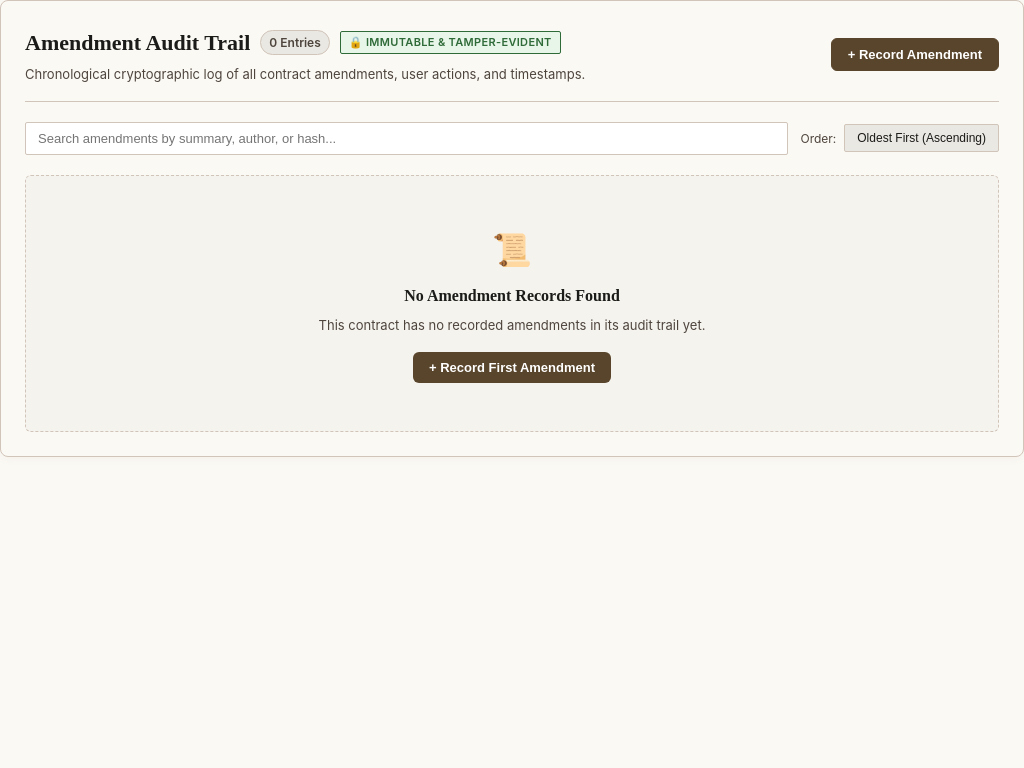
Test: AmendmentTimeline Component › renders empty state when no amendments are provided and allows opening amendment record form
Expected: the element with test id "amendment-empty-state" is shown, [25,175,999,432]
Expected: the heading "No Amendment Records Found" is shown, [404,287,620,304]
Click the button with test id "amendment-form-toggle" at (915,55), box [831,38,999,72]
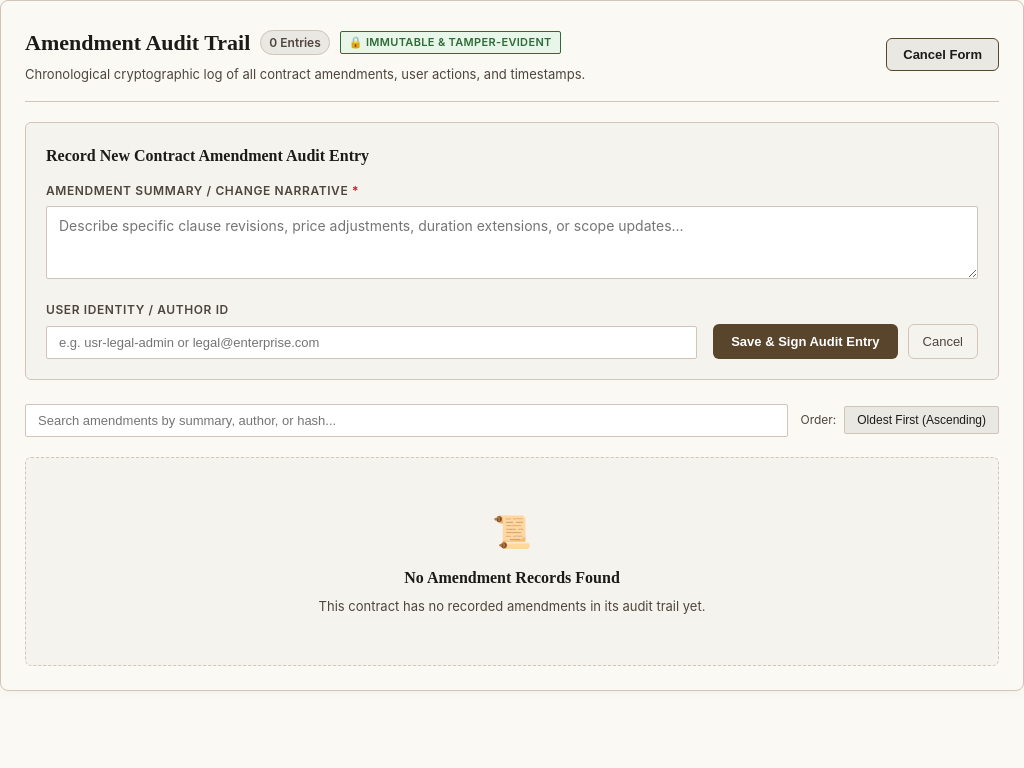
Now the element with test id "amendment-form" is shown, box [25,122,999,380]
